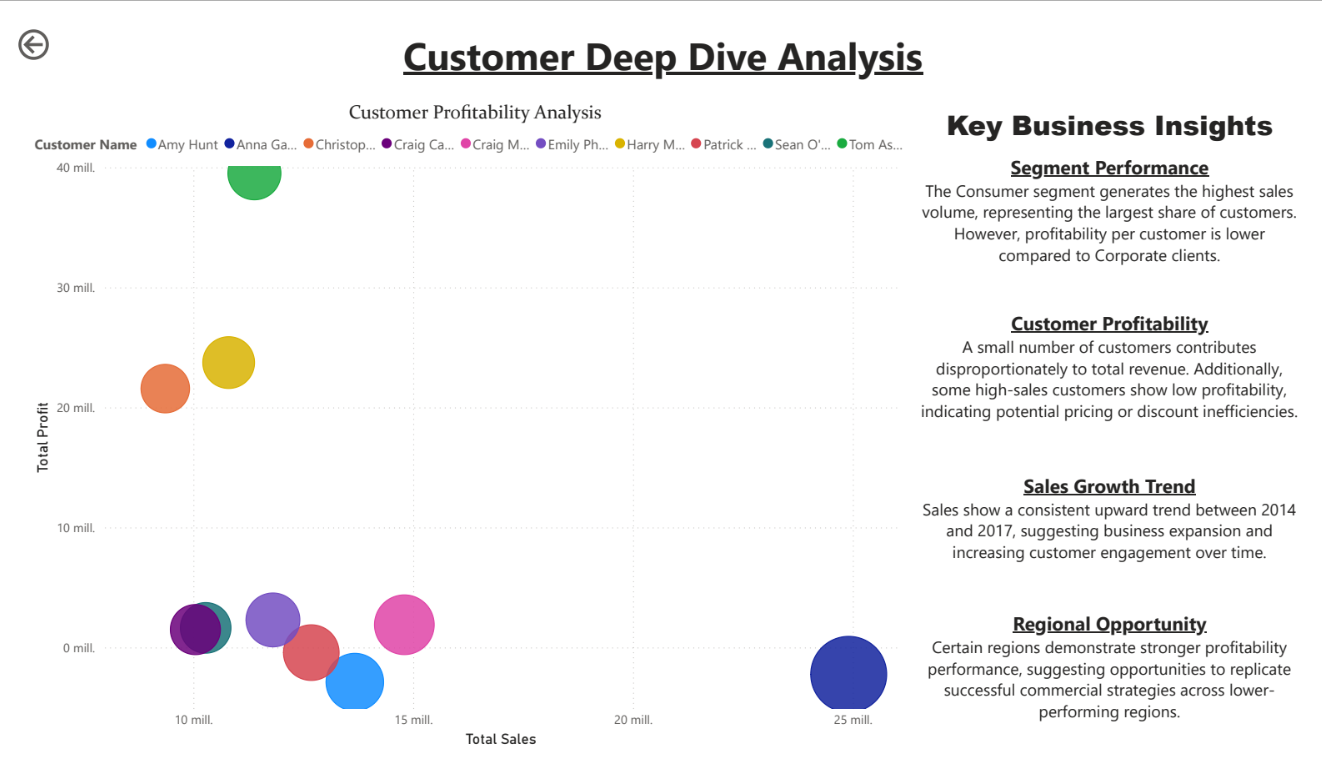

The page's visual inventory and layout, read from the dashboard file:
{"tool":"powerbi","page":{"name":"Customer Analysis","canvas":[1280,720],"ordinal":1},"visuals":[{"type":"scatterChart","title":"Customer Profitability Analysis","fields":{"Category":["Sample - Superstore.Customer Name"],"X":["Sample - Superstore.Total Sales"],"Y":["Sample - Superstore.Total Profit"],"Series":["Sample - Superstore.Customer Name"],"Size":["Sample - Superstore.Total Sales"]},"box":[15.9,74.6,879.4,642.9],"z":0},{"type":"textbox","box":[888.9,74.6,384.1,47.6],"z":0,"group":"g1"},{"type":"group","id":"g1","title":"Grupo 2","box":[888.9,74.6,384.1,639.7],"z":9,"group":"g2"},{"type":"actionButton","box":[0,0,100,40],"z":1000},{"type":"textbox","box":[888.9,122.2,384.1,131.7],"z":1000,"group":"g1"},{"type":"textbox","box":[368.3,0,544.4,76.2],"z":2000},{"type":"textbox","box":[888.9,276.2,384.1,141.3],"z":2000,"group":"g1"},{"type":"group","id":"g2","title":"Grupo 1","box":[888.9,74.6,384.1,639.7],"z":3000},{"type":"textbox","box":[888.9,436.5,384.1,112.7],"z":3000,"group":"g1"},{"type":"textbox","box":[888.9,573,384.1,141.3],"z":4000,"group":"g1"}]}

Visuals, with their boxes on the page's 1280x720 design canvas (x1, y1, x2, y2). These are canvas units, not pixel positions in the 1322x778 screenshot, which may show the page scaled, cropped or inside an application window:
"Customer Profitability Analysis" scatterChart: box(16, 75, 895, 718)
textbox: box(889, 75, 1273, 122)
"Grupo 2" group: box(889, 75, 1273, 714)
actionButton: box(0, 0, 100, 40)
textbox: box(889, 122, 1273, 254)
textbox: box(368, 0, 913, 76)
textbox: box(889, 276, 1273, 418)
"Grupo 1" group: box(889, 75, 1273, 714)
textbox: box(889, 436, 1273, 549)
textbox: box(889, 573, 1273, 714)
